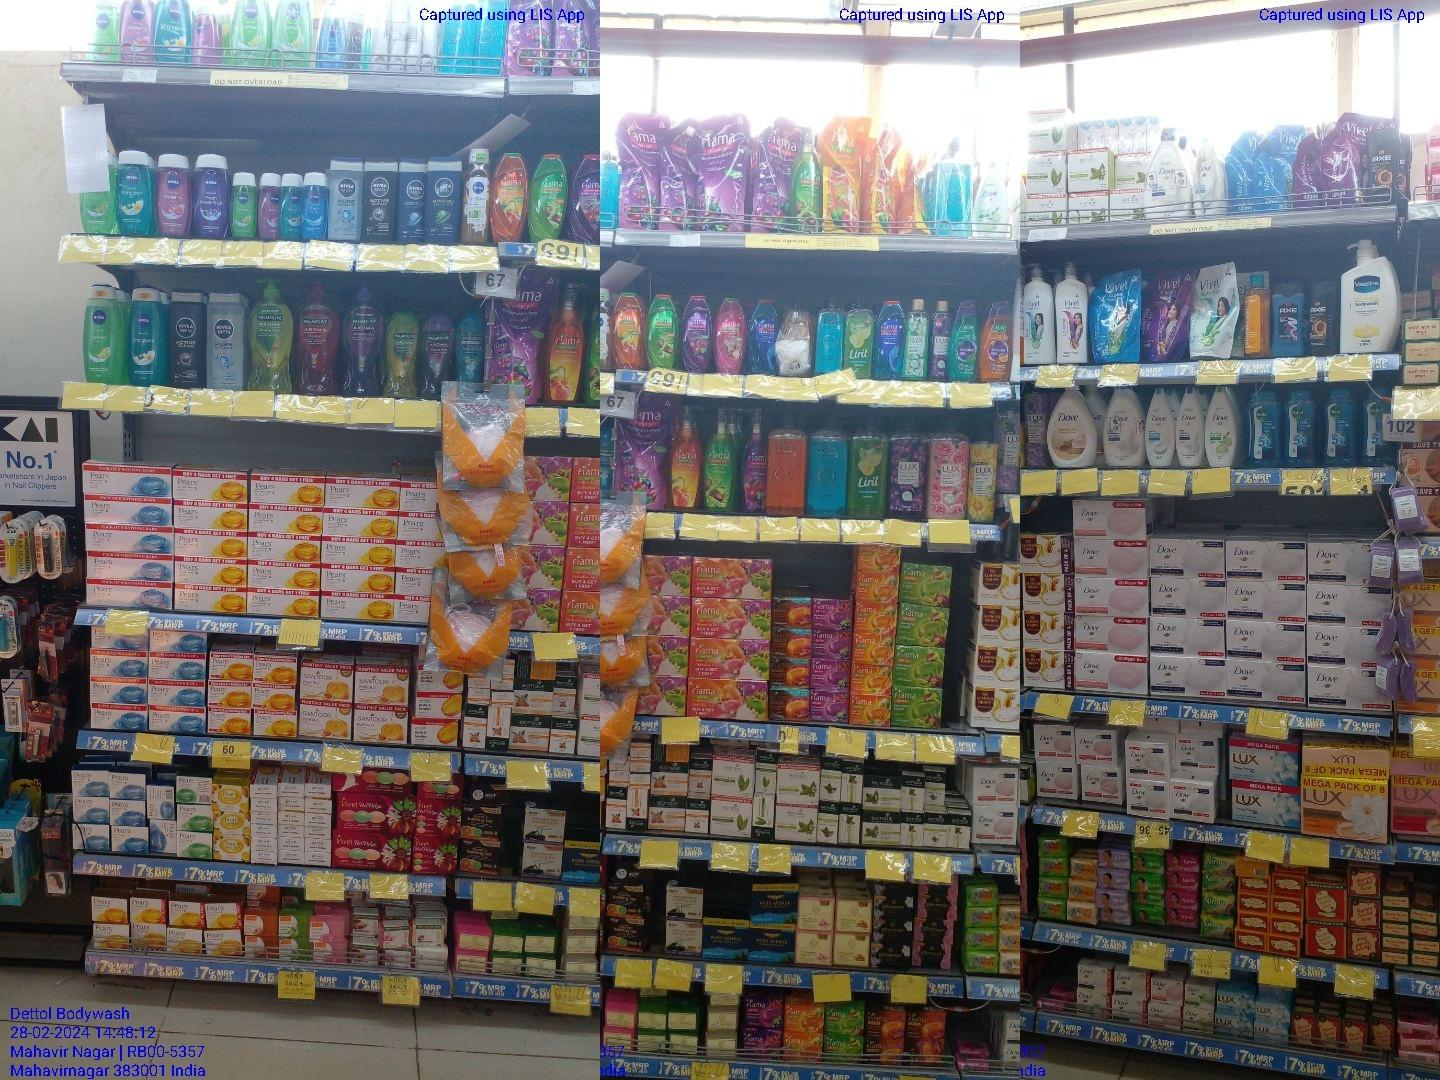Dettol_Bodywash_Cool: (1323, 387, 1358, 466), (1285, 387, 1318, 467), (1251, 388, 1282, 469), (1363, 387, 1392, 470)
Dove_Deep_Moisture_Body_Wash_250ML: (1175, 386, 1205, 470)
Dove_Gentle_Exfoliating_Body_Wash_250ML: (1143, 387, 1175, 466)
Dove_Refreshing_Body_Wash_250ML: (1206, 381, 1237, 467)
Fiama_Shower_Gel_Lemongrass_and_Jojoba_250ML: (531, 152, 567, 241), (647, 289, 677, 372)
Fiama_Shower_Gel_Patchouli_and_Macadamia_250ML: (715, 295, 744, 374)
Fiama_Shower_Gel_Peach_and_Avocado_250ML: (492, 152, 526, 245), (613, 294, 644, 370)
Joy_Shower_Gel_Mandarin_and_Lemongrass_250ML: (982, 301, 1014, 382)
Joy_Shower_Gel_Mint_and_Eucalyptus_250ML: (951, 299, 980, 382)
Liril_Lime_and_Tea_Tree_Oil_Body_Wash_250ML: (847, 299, 872, 377)
Lux_Black_Orchid_Scent_and_Juniper_Oil_Body_Wash_245ML: (931, 299, 949, 382)
Lux_Body_Wash_Skin_Detox_Freesia_Scent_and_Alove_Vera_245ML: (906, 295, 927, 380)
Nivea_Shower_Gel_Frangipani_and_Oil_250ML: (127, 285, 161, 386), (115, 149, 153, 236), (279, 172, 302, 238)
Nivea_Shower_Gel_Lemon_and_Oil_250ML: (84, 284, 119, 385), (231, 170, 256, 241)
Nivea_Shower_Gel_Waterlily_and_Oil_250ML: (155, 150, 188, 237), (259, 170, 278, 241)
Palmolive_Aroma_Moments_Feel_The_Massage_Shower_Gel_250ML: (456, 314, 485, 388)
Palmolive_Aroma_Morning_Tonic_Shower_Gel_250ML: (386, 309, 418, 402)
Palmolive_Aroma_Relax_250ML: (423, 313, 454, 402)
Pears_Pure_Glycerin_and_Mint_Extracts_Body_Wash_250ML: (816, 296, 844, 373)
